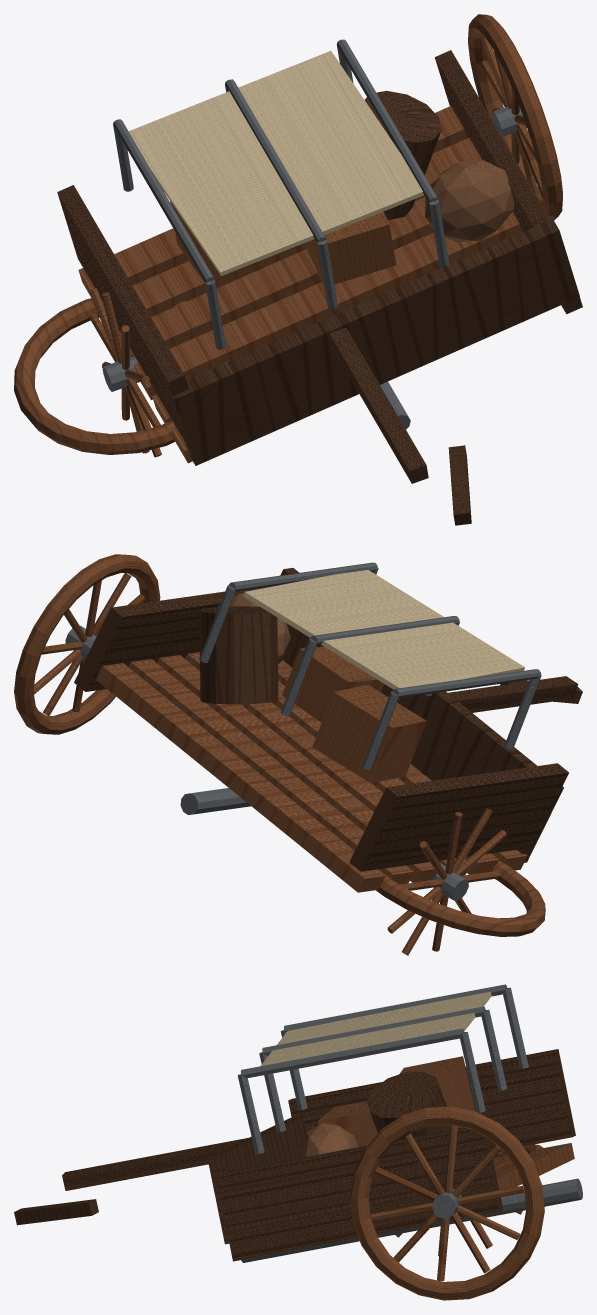
The model's file is wagon crash.glb.
3 views of the same model, one above another, from view 1: azimuth 30°, elevation 25°; view 2: azimuth 150°, elevation 25°; view 3: azimuth 270°, elevation 25° (orthographic). The views are drawn at different scales.
Visible parts, largest first — view 1: torn_canvas, front_side, bed_board_2, side_-1.35, bed_board_3, wheel_left_rim, broken_wheel_rim, sack, side_1.35, bed_board_4, tongue, crate_1 (+11 smaller); view 2: torn_canvas, side_-1.35, bed_board_5, front_side, side_1.35, barrel, crate_0, broken_wheel_rim, bed_board_4, bed_board_3, wheel_left_rim, bed_board_2 (+18 smaller); view 3: side_1.35, broken_wheel_rim, side_-1.35, torn_canvas, barrel, front_side, tongue, hoopTop_2, axle, crate_0, crate_1, bed_board_5 (+21 smaller).
Part boxes in pixels (x1,y1,x2,y2): torn_canvas: (128,51,423,275); front_side: (173,219,579,465); bed_board_2: (134,211,522,399); side_-1.35: (57,185,189,448); bed_board_3: (119,197,433,357); wheel_left_rim: (14,298,226,454); broken_wheel_rim: (468,14,562,220); sack: (425,160,514,242); side_1.35: (434,50,582,314); bed_board_4: (102,137,482,331); tongue: (329,327,428,483); crate_1: (305,211,396,284); torn_canvas: (243,570,524,689); side_-1.35: (349,763,568,871); bed_board_5: (95,663,385,892); front_side: (280,568,563,862); side_1.35: (74,586,270,691); barrel: (199,606,278,704); crate_0: (312,685,426,783); broken_wheel_rim: (14,554,160,734); bed_board_4: (128,659,413,884); bed_board_3: (157,655,437,882); wheel_left_rim: (376,860,545,936); bed_board_2: (185,652,468,875); side_1.35: (215,1127,503,1261); broken_wheel_rim: (350,1106,544,1300); side_-1.35: (288,1049,575,1150); torn_canvas: (260,991,491,1066); barrel: (367,1071,453,1138); front_side: (207,1116,305,1244); tongue: (62,1138,247,1190); hoopTop_2: (241,1028,463,1078); axle: (241,1178,582,1262); crate_0: (399,1056,475,1128); crate_1: (317,1101,377,1146); bed_board_5: (495,1143,574,1189).
Size of the model in its own units: 3.96 by 2.59 by 4.18.
Materials: 6 (6 with a texture image).
